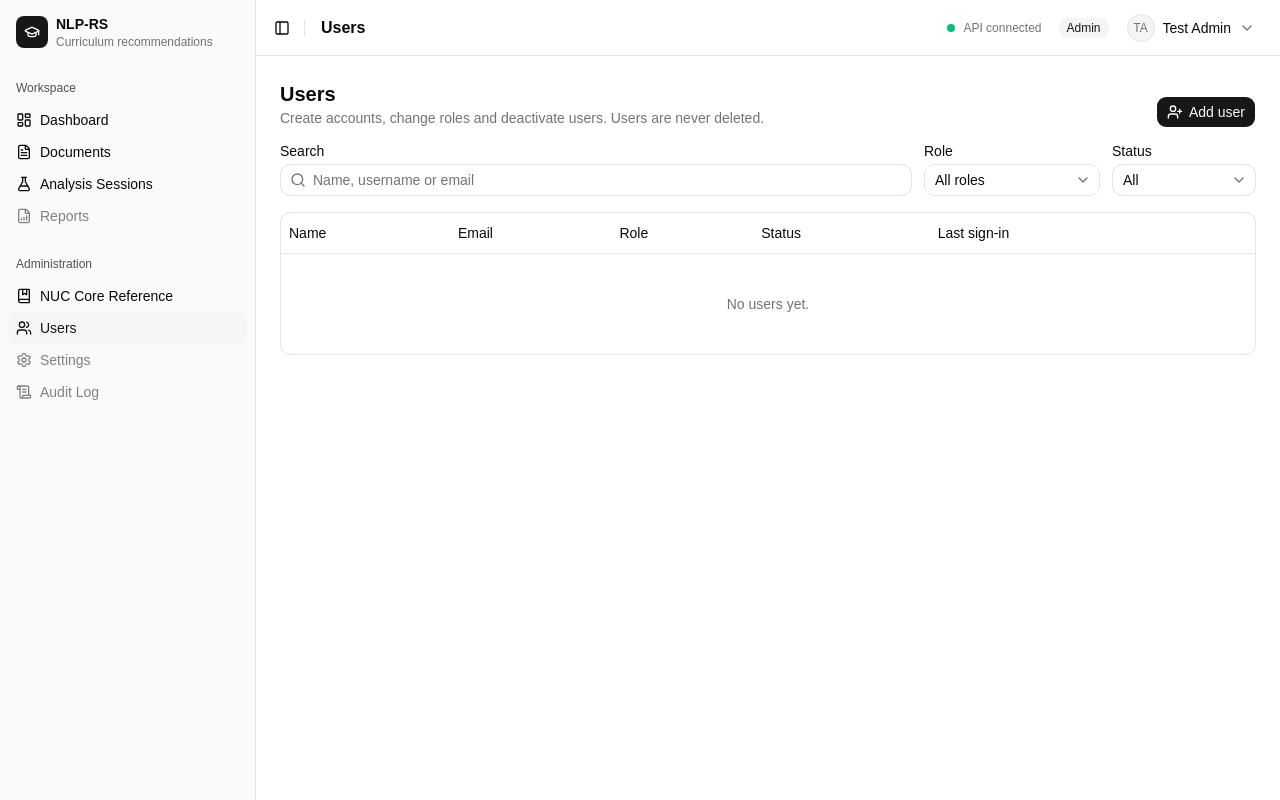
it: UsersPage › shows an empty state when no users match
The width and height of the screenshot is (1280, 800).
Type "nobody" into the field labelled "Search".
click(596, 180); type("nobody")  # box [280,164,912,196]
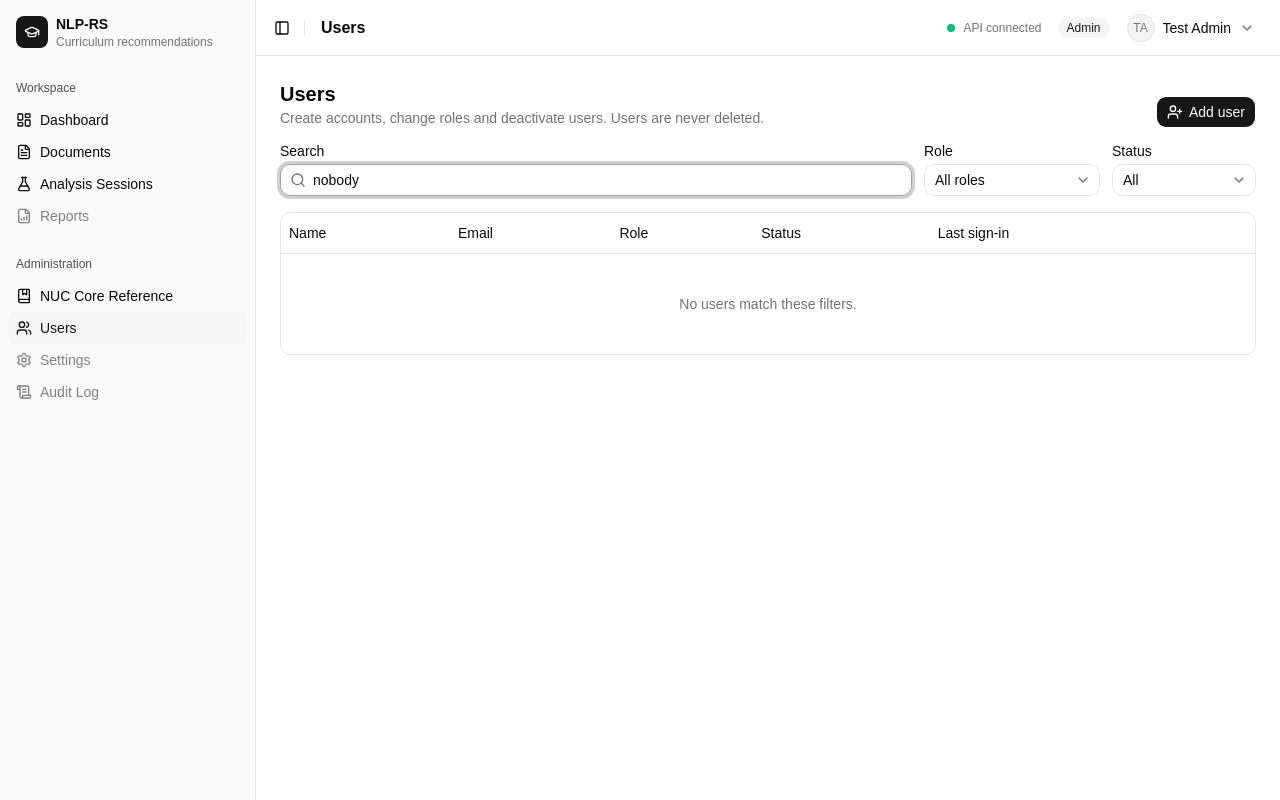
Expected: the text "No users match these filters." is shown, [281,253,1255,354]
